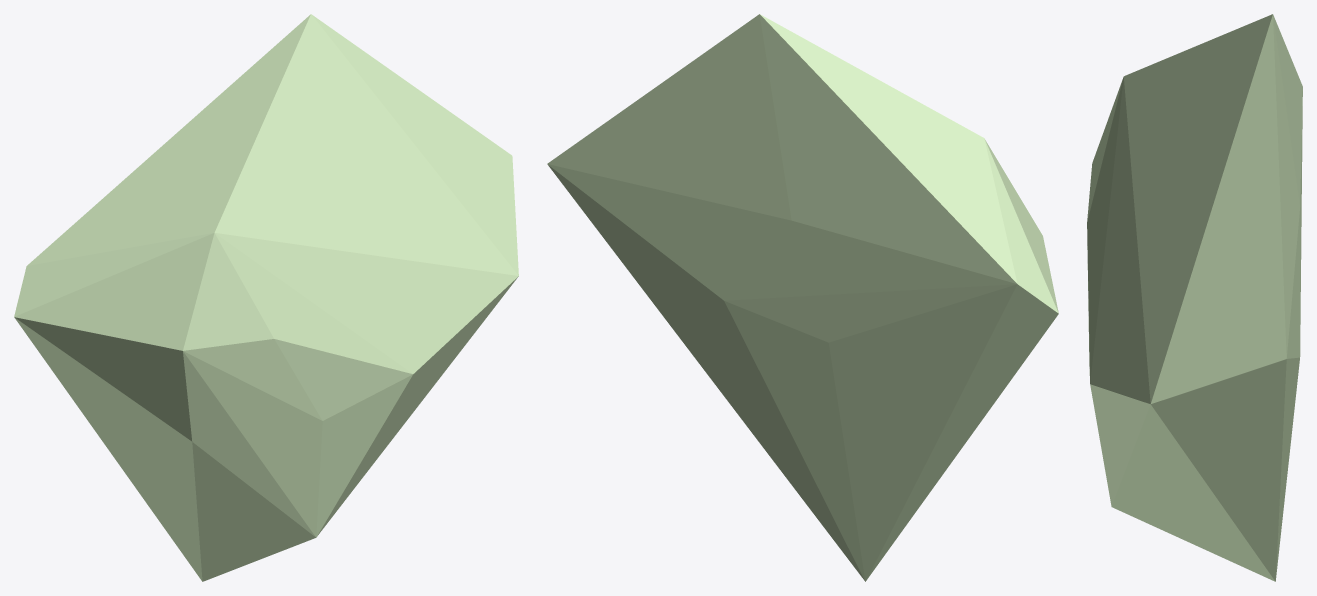
File: kuka_URDF_robot_base_coll_14.dae
The picture shows the model from 3 angles, left to right: view 1: azimuth 30°, elevation 25°; view 2: azimuth 150°, elevation 25°; view 3: azimuth 270°, elevation 25°; orthographic projection. The views are drawn at different scales.
Visible parts, largest first — view 1: Node_0000020FCC591890; view 2: Node_0000020FCC591890; view 3: Node_0000020FCC591890.
Part boxes in pixels (box(x1,y1,x2,y2)): Node_0000020FCC591890: box(14, 14, 518, 581); Node_0000020FCC591890: box(547, 14, 1058, 581); Node_0000020FCC591890: box(1087, 14, 1302, 581).
Bounding box in the file's own units: 0.0435 × 0.0446 × 0.0139.
